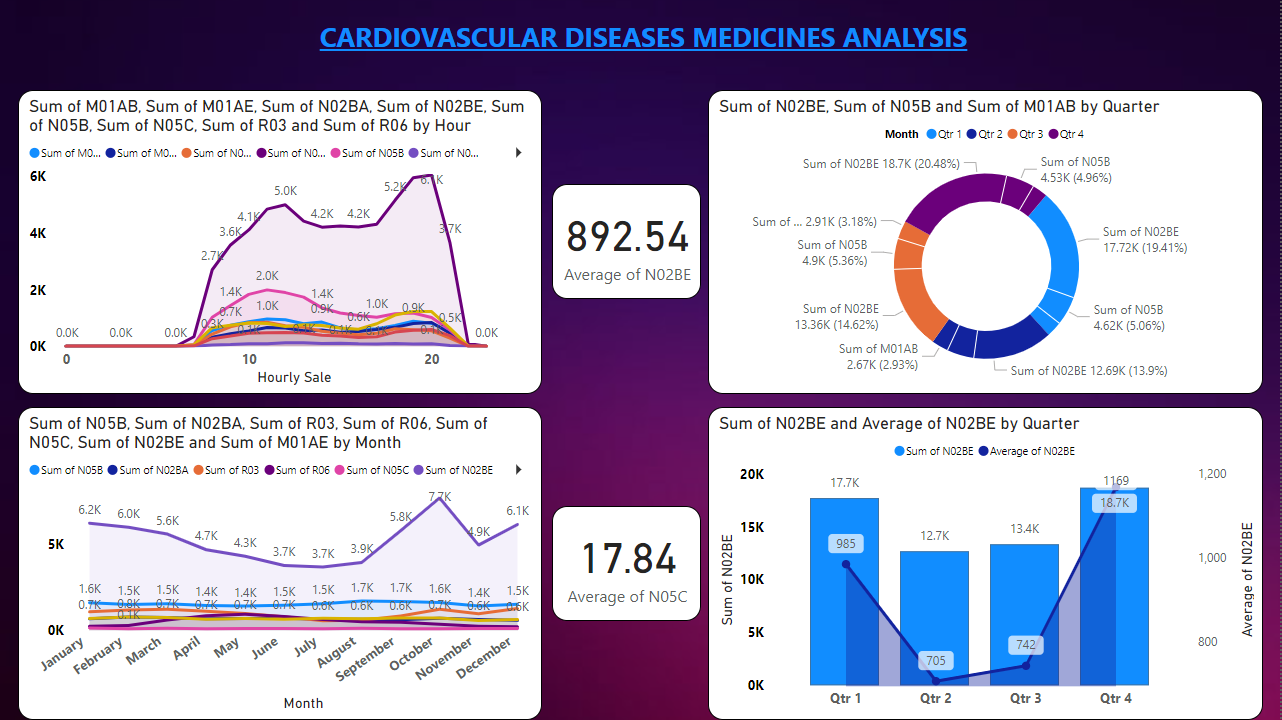

The dashboard page shown, as its layout file describes it:
{"tool":"powerbi","page":{"name":"Page 1","canvas":[1280,720],"ordinal":0},"visuals":[{"type":"lineChart","fields":{"Y":["Sum(saleshourly.M01AB)","Sum(saleshourly.M01AE)","Sum(saleshourly.N02BA)","Sum(saleshourly.N02BE)","Sum(saleshourly.N05B)","Sum(saleshourly.N05C)","Sum(saleshourly.R03)","Sum(saleshourly.R06)"],"Category":["saleshourly.Hour"]},"box":[18,90,524,304],"z":0},{"type":"lineChart","fields":{"Y":["Sum(salesmonthly.N05B)","Sum(salesmonthly.N02BA)","Sum(salesmonthly.R03)","Sum(salesmonthly.R06)","Sum(salesmonthly.N05C)","Sum(salesmonthly.N02BE)","Sum(salesmonthly.M01AE)"],"Category":["salesmonthly.datum.Variation.Date Hierarchy.Month"]},"box":[18,407,524,313],"z":1000},{"type":"donutChart","fields":{"Y":["Sum(salesmonthly.N02BE)","Sum(salesmonthly.N05B)","Sum(salesmonthly.M01AB)"],"Category":["salesmonthly.datum.Variation.Date Hierarchy.Quarter"]},"box":[708,90,555,304],"z":2000},{"type":"lineStackedColumnComboChart","fields":{"Category":["salesmonthly.datum.Variation.Date Hierarchy.Quarter"],"Y":["Sum(salesmonthly.N02BE)"],"Y2":["Avg(salesmonthly.N02BE)"]},"box":[708,407,555,313],"z":3000},{"type":"textbox","box":[217,8,833,69],"z":4000},{"type":"card","fields":{"Values":["Sum(salesmonthly.N02BE)"]},"box":[552,184,149,115],"z":5000},{"type":"card","fields":{"Values":["Sum(salesmonthly.N05C)"]},"box":[552,506,149,115],"z":6000}]}

Visuals, with their boxes in screenshot pixels (x1, y1, x2, y2), scaled from the page's 1280x720 canvas onto the 1282x720 screenshot:
lineChart - Sum(saleshourly.M01AB) x Sum(saleshourly.M01AE): locate(18, 90, 543, 394)
lineChart - Sum(salesmonthly.N05B) x Sum(salesmonthly.N02BA): locate(18, 407, 543, 719)
donutChart - Sum(salesmonthly.N02BE) x Sum(salesmonthly.N05B): locate(709, 90, 1265, 394)
lineStackedColumnComboChart - salesmonthly.datum.Variation.Date Hierarchy.Quarter x Sum(salesmonthly.N02BE): locate(709, 407, 1265, 719)
textbox: locate(217, 8, 1052, 77)
card - Sum(salesmonthly.N02BE): locate(553, 184, 702, 299)
card - Sum(salesmonthly.N05C): locate(553, 506, 702, 621)
